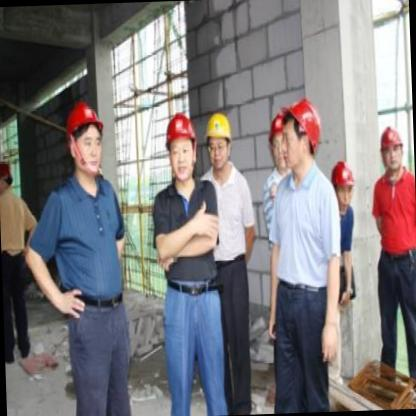bee: (272, 96, 322, 175), (64, 99, 109, 182), (163, 112, 200, 182), (268, 106, 301, 170), (202, 110, 234, 172), (378, 121, 405, 175), (331, 158, 356, 212), (0, 156, 16, 205)
